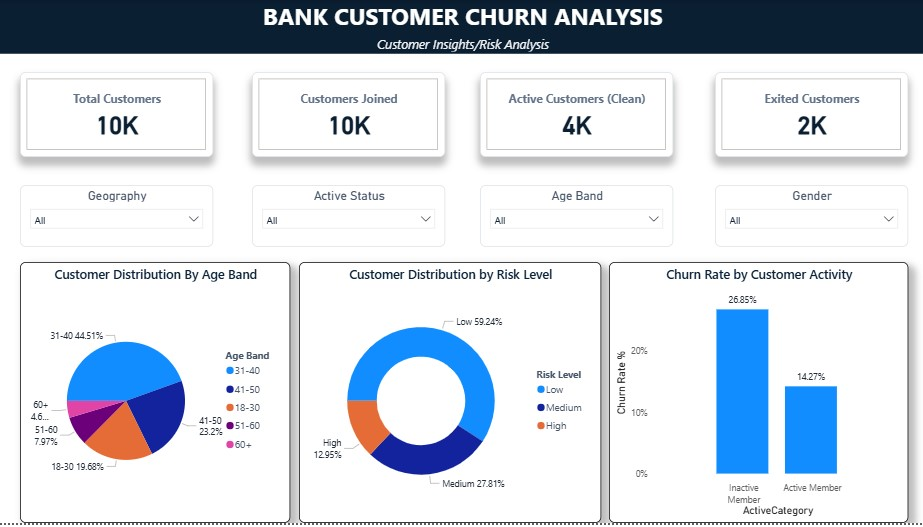

What the dashboard file says about the page in this screenshot:
{"tool":"powerbi","page":{"name":"Customer Insights/Risk Analysis","canvas":[1280,720],"ordinal":2},"visuals":[{"type":"cardVisual","fields":{"Data":["_Measures.Total Customers"]},"box":[30.3,99.1,265.6,117],"z":0},{"type":"cardVisual","fields":{"Data":["_Measures.Active Customers (Clean)"]},"box":[663.4,99.1,265.6,117],"z":1000},{"type":"textbox","title":"BANK CUSTOMER CHURN ANALYSIS","box":[0,0,1280,74.4],"z":2000},{"type":"cardVisual","fields":{"Data":["_Measures.Customers Joined"]},"box":[349.6,99.1,265.6,117],"z":3000},{"type":"cardVisual","fields":{"Data":["_Measures.Exited Customers"]},"box":[986.8,99.1,265.6,117],"z":4000},{"type":"slicer","title":"Geography","fields":{"Values":["Geography.GeographyLocation"]},"box":[30.3,254.6,265.6,85.3],"z":5000},{"type":"slicer","title":"Gender","fields":{"Values":["Gender.GenderCategory"]},"box":[986.8,254.6,265.6,85.3],"z":6000},{"type":"slicer","title":"Active Status","fields":{"Values":["ActiveCustomer.ActiveCategory"]},"box":[349.6,254.6,265.6,85.3],"z":7000},{"type":"slicer","title":"Age Band","fields":{"Values":["Bank_Churn.Age Band"]},"box":[663.4,254.6,265.6,85.3],"z":8000},{"type":"pieChart","title":"Customer Distribution By Age Band","fields":{"Category":["Bank_Churn.Age Band"],"Y":["_Measures.Total Customers"]},"box":[30.3,360.6,371.6,359.2],"z":9000},{"type":"donutChart","title":"Customer Distribution by Risk Level","fields":{"Category":["Bank_Churn.Risk Level"],"Y":["_Measures.Total Customers"]},"box":[414.3,360.6,415.7,359.2],"z":10000},{"type":"clusteredColumnChart","title":"Churn Rate by Customer Activity","fields":{"Category":["ActiveCustomer.ActiveCategory"],"Y":["_Measures.Churn Rate %"]},"box":[840.9,360.6,411.5,359.2],"z":11000}]}

Visuals, with their boxes in screenshot pixels (x1, y1, x2, y2), scaled from the page's 1280x720 canvas onto the 923x527 screenshot:
cardVisual - _Measures.Total Customers: detection(22, 73, 213, 158)
cardVisual - _Measures.Active Customers (Clean): detection(478, 73, 670, 158)
"BANK CUSTOMER CHURN ANALYSIS" textbox: detection(0, 0, 922, 54)
cardVisual - _Measures.Customers Joined: detection(252, 73, 444, 158)
cardVisual - _Measures.Exited Customers: detection(712, 73, 903, 158)
"Geography" slicer: detection(22, 186, 213, 249)
"Gender" slicer: detection(712, 186, 903, 249)
"Active Status" slicer: detection(252, 186, 444, 249)
"Age Band" slicer: detection(478, 186, 670, 249)
"Customer Distribution By Age Band" pieChart: detection(22, 264, 290, 526)
"Customer Distribution by Risk Level" donutChart: detection(299, 264, 599, 526)
"Churn Rate by Customer Activity" clusteredColumnChart: detection(606, 264, 903, 526)
